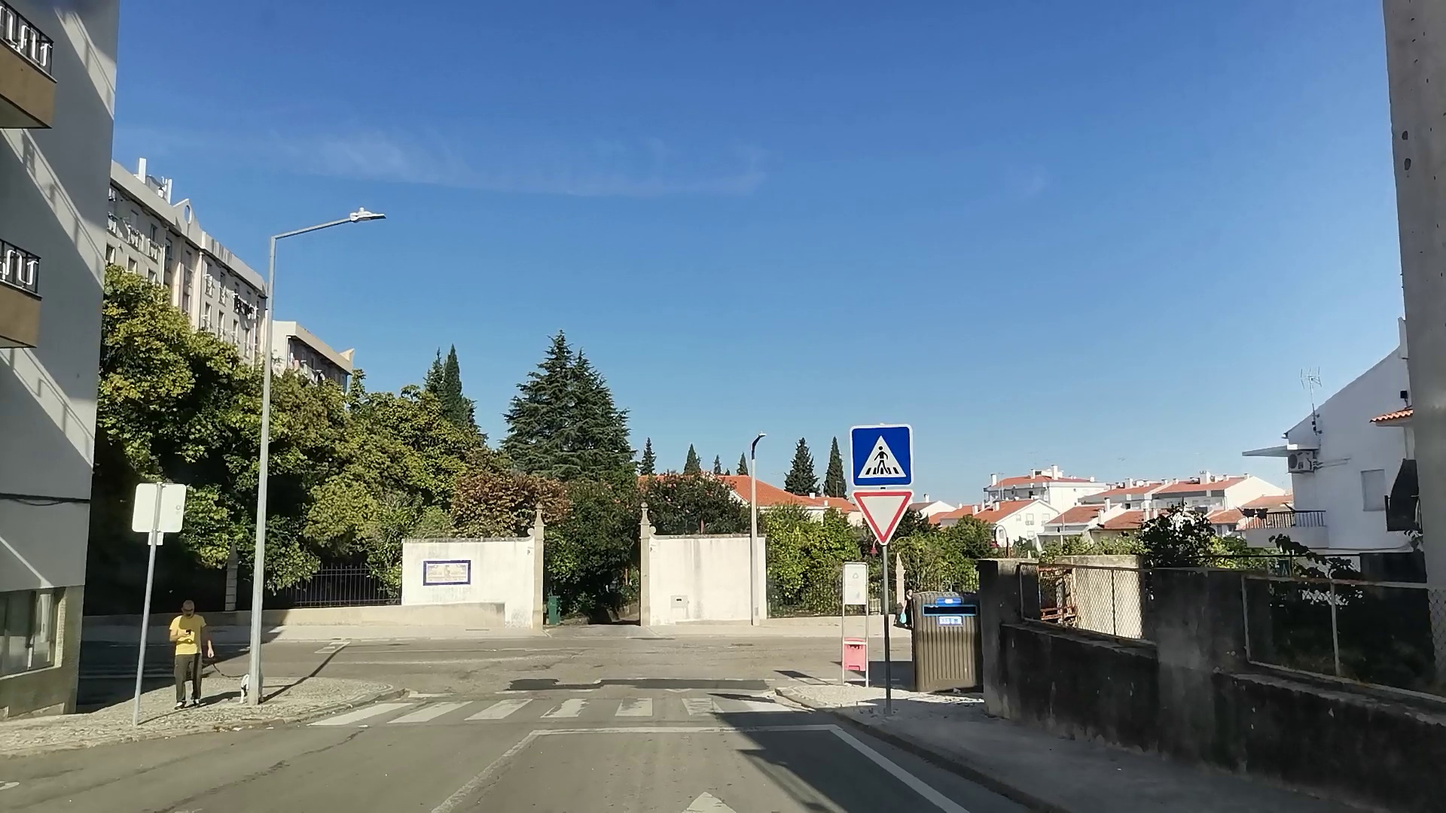Stairs: (325, 691, 805, 730)
